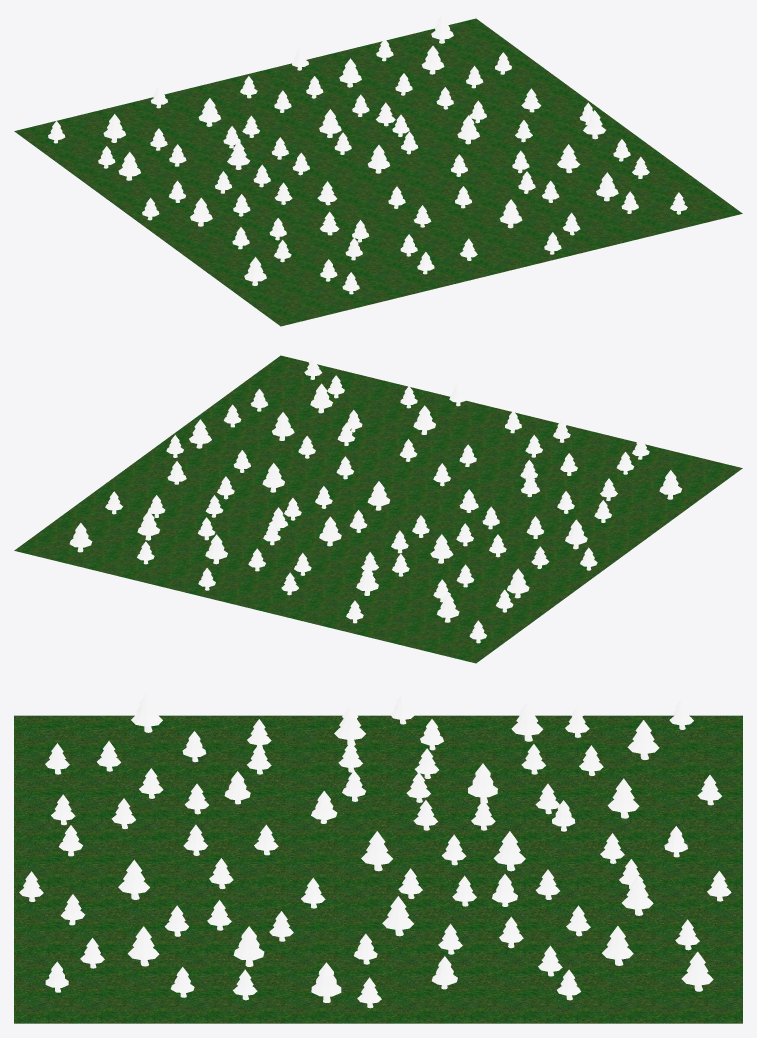
3 views of the same model, one above another, from view 1: azimuth 30°, elevation 25°; view 2: azimuth 150°, elevation 25°; view 3: azimuth 270°, elevation 25° (orthographic). The views are drawn at different scales.
Visible parts, largest first — view 1: Plane; view 2: Plane; view 3: Plane, NurbsCircle.040, NurbsCircle.006, NurbsCircle.002, NurbsCircle.016, NurbsCircle.032, NurbsCircle.026, NurbsCircle.034, NurbsCircle.036, NurbsCircle.022, NurbsCircle.020, NurbsCircle.024 (+5 smaller).
Boxes of the visible parts, left/top/right/bottom form: Plane: left=14, top=18, right=742, bottom=326; Plane: left=14, top=355, right=742, bottom=663; Plane: left=14, top=715, right=742, bottom=1023; NurbsCircle.040: left=311, top=962, right=341, bottom=996; NurbsCircle.006: left=233, top=926, right=264, bottom=960; NurbsCircle.002: left=468, top=763, right=497, bottom=797; NurbsCircle.016: left=118, top=859, right=149, bottom=893; NurbsCircle.032: left=493, top=831, right=525, bottom=865; NurbsCircle.026: left=127, top=926, right=159, bottom=960; NurbsCircle.034: left=681, top=951, right=713, bottom=985; NurbsCircle.036: left=511, top=701, right=543, bottom=735; NurbsCircle.022: left=627, top=720, right=659, bottom=754; NurbsCircle.020: left=607, top=778, right=639, bottom=812; NurbsCircle.024: left=131, top=692, right=162, bottom=726.
Bounding box in the file's own units: 145 × 8.79 × 145.
3 materials, 1 textured.
